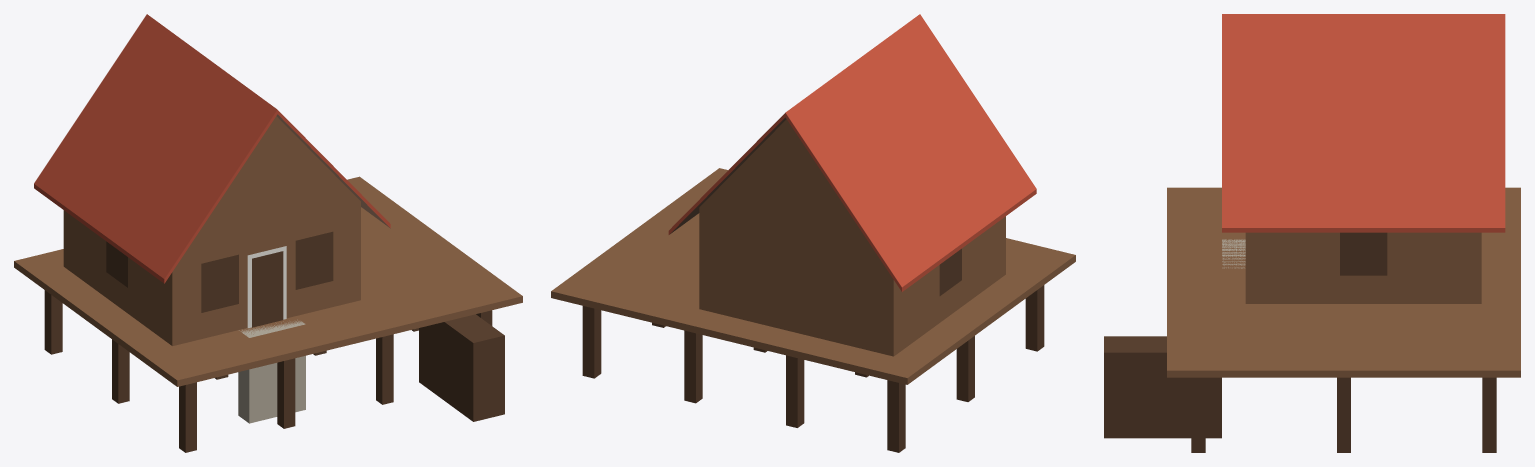
Rendered from maison_pilotis.glb.
3 renders of one model, left to right at view 1: azimuth 30°, elevation 25°; view 2: azimuth 150°, elevation 25°; view 3: azimuth 270°, elevation 25°, orthographic. The views are drawn at different scales.
Visible parts, largest first — view 1: maison_pilotis; view 2: maison_pilotis; view 3: maison_pilotis.
Part boxes in pixels (x1=…): maison_pilotis: x1=14, y1=14, x2=522, y2=452; maison_pilotis: x1=551, y1=14, x2=1075, y2=452; maison_pilotis: x1=1104, y1=14, x2=1520, y2=452.
Size of the model in its own units: 11 by 9.34 by 10.6.
1 material, 1 textured.
